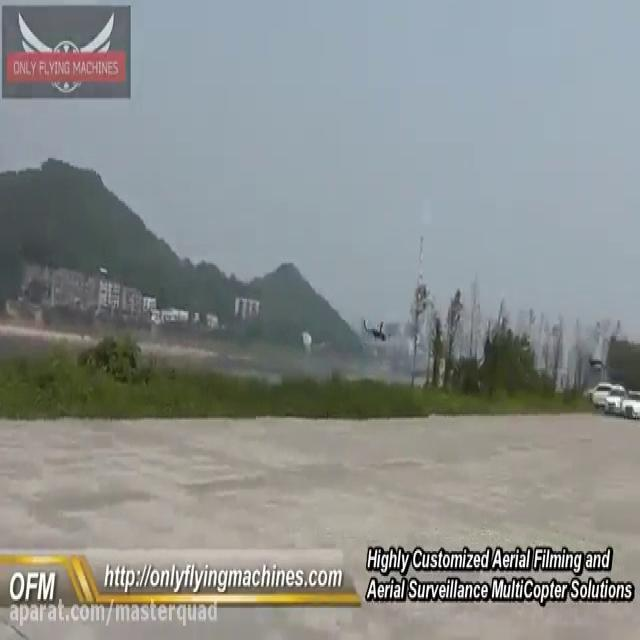drone: (361, 314, 391, 346)
